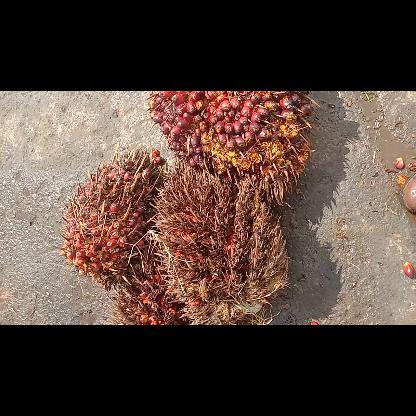TBS masak: (146, 91, 318, 205), (58, 148, 162, 290)
Terlalu masak: (150, 158, 290, 324), (103, 258, 188, 324)
